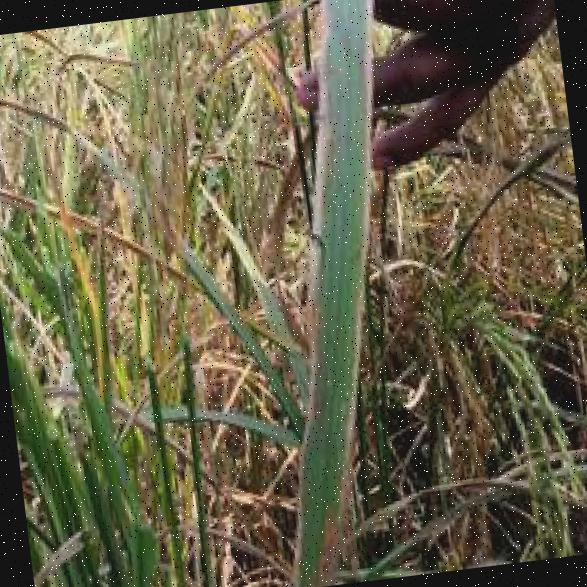Bacteria_Leaf_Blight: (230, 4, 397, 552)
